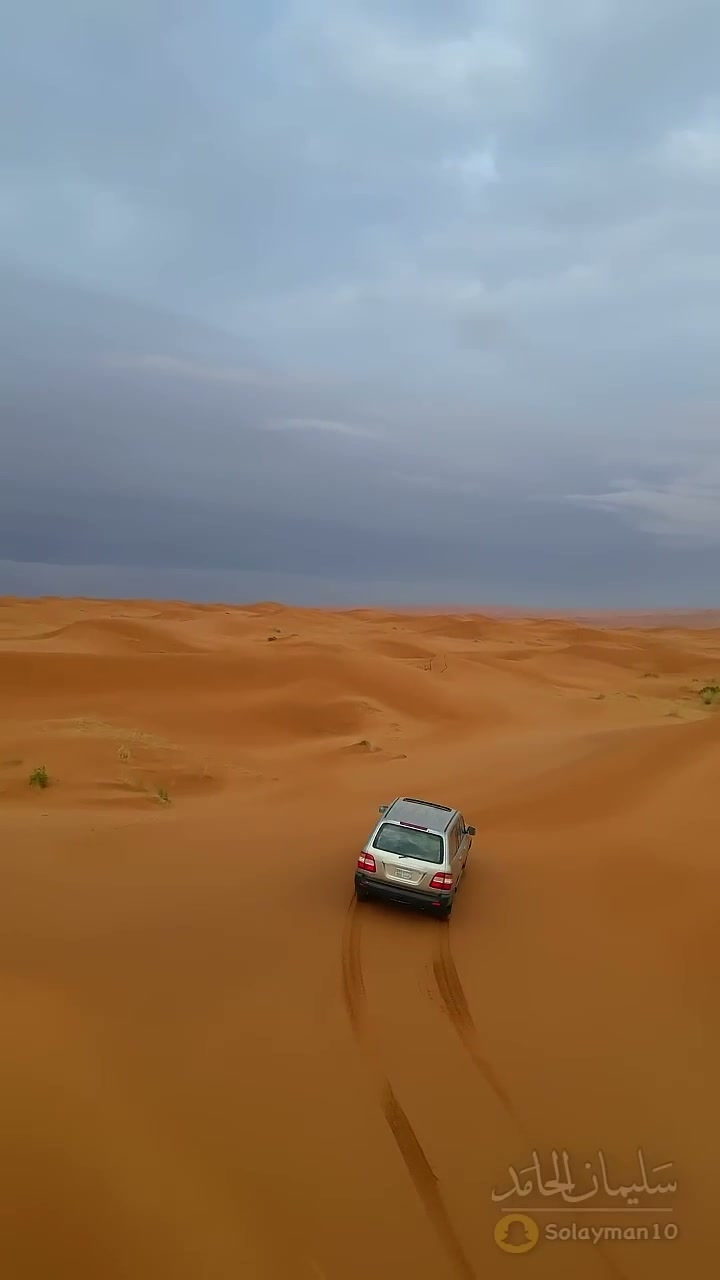vehicle_track: (342, 896, 474, 1279), (596, 1244, 625, 1279)
